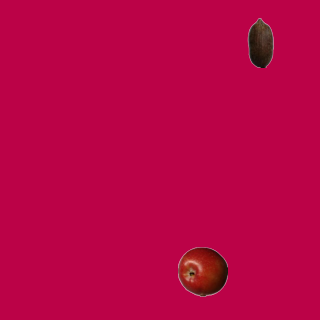Apple Braeburn: (177, 246, 227, 296)
Nut Pecan: (235, 17, 285, 67)
